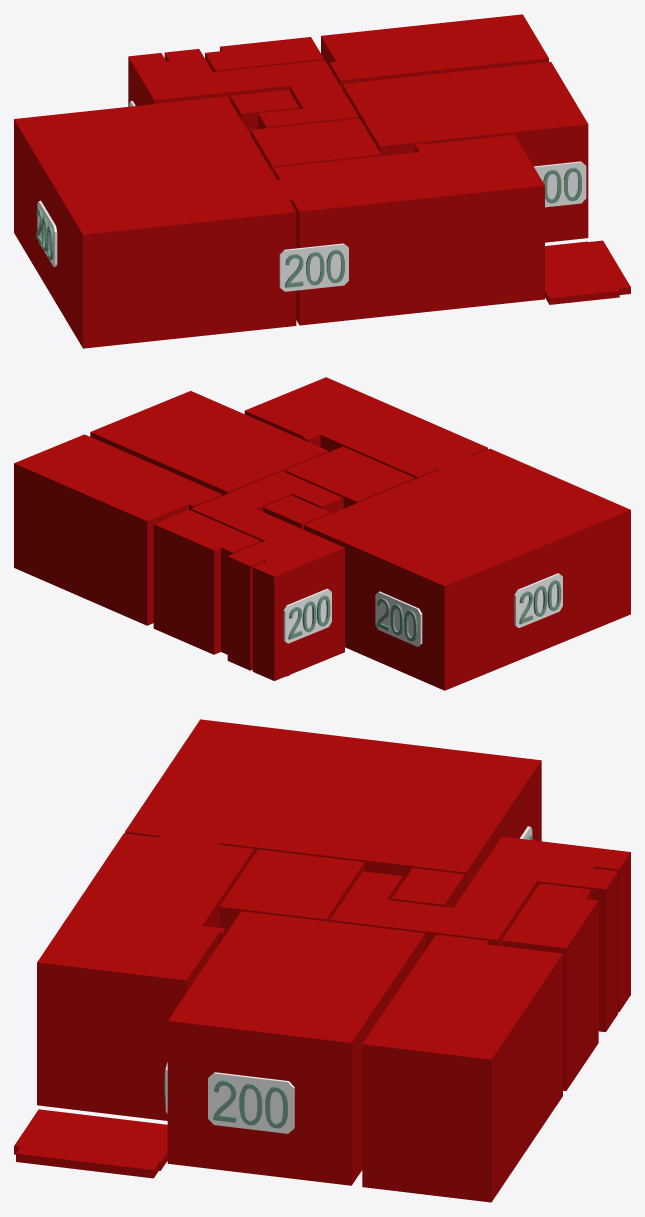
3 views of the same model, one above another, from view 1: azimuth 30°, elevation 25°; view 2: azimuth 150°, elevation 25°; view 3: azimuth 270°, elevation 25° (orthographic). The views are drawn at different scales.
Parts seen in each view (by area): view 1: g_1, g_0, g_3, g_4, g_7, g_2, g_8, g_5, g_12, g_6, g_24, g_20; view 2: g_1, g_4, g_7, g_3, g_0, g_5, g_2, g_16, g_20, g_32, g_6; view 3: g_3, g_1, g_4, g_0, g_7, g_5, g_8, g_2, g_28, g_6.
Boxes of the visible parts, x1,y1,x2,y2 form: g_1: (14, 96, 296, 348); g_0: (273, 135, 544, 325); g_3: (342, 62, 588, 242); g_4: (321, 14, 548, 89); g_7: (128, 49, 358, 129); g_2: (251, 118, 381, 172); g_8: (545, 240, 630, 304); g_5: (205, 37, 323, 72); g_12: (279, 243, 348, 291); g_6: (230, 90, 299, 135); g_24: (534, 161, 586, 207); g_20: (37, 200, 57, 266); g_1: (304, 448, 630, 690); g_4: (14, 434, 221, 625); g_7: (191, 471, 344, 680); g_3: (90, 391, 328, 495); g_0: (244, 377, 487, 479); g_5: (153, 509, 260, 654); g_2: (285, 446, 414, 508); g_16: (283, 588, 331, 643); g_20: (514, 573, 562, 627); g_32: (375, 591, 422, 646); g_6: (263, 495, 330, 529); g_3: (167, 911, 425, 1185); g_1: (125, 719, 541, 890); g_4: (362, 934, 562, 1202); g_0: (37, 833, 253, 1120); g_7: (330, 836, 630, 1032); g_5: (501, 883, 598, 1090); g_8: (14, 1109, 167, 1178); g_2: (219, 849, 364, 934); g_28: (208, 1072, 294, 1133); g_6: (392, 868, 464, 907).
Bounding box in the file's own units: 13.16 × 2.74 × 10.08.
